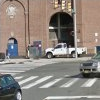crosswalk: (12, 75, 98, 89)
